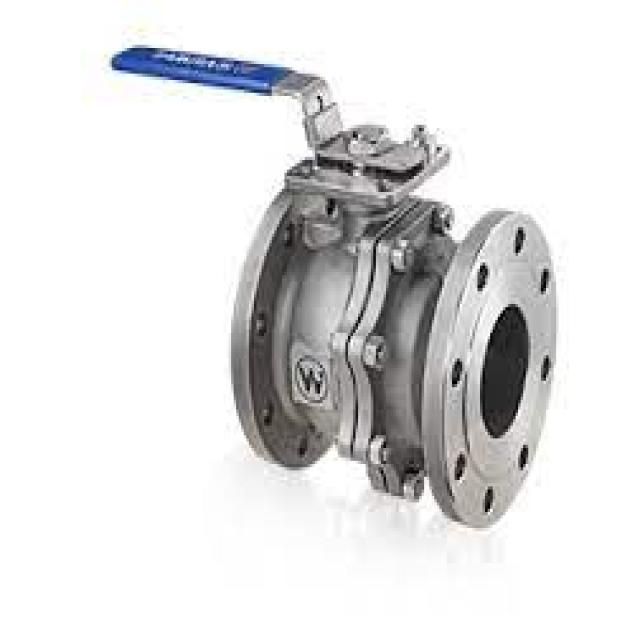Lever Handle Valve Threaded: (108, 20, 460, 222)
